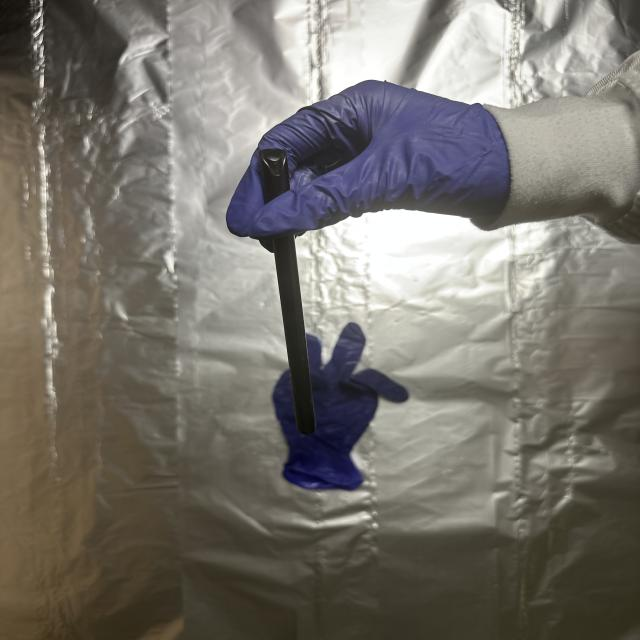gloves_contaminated: (227, 80, 510, 250)
